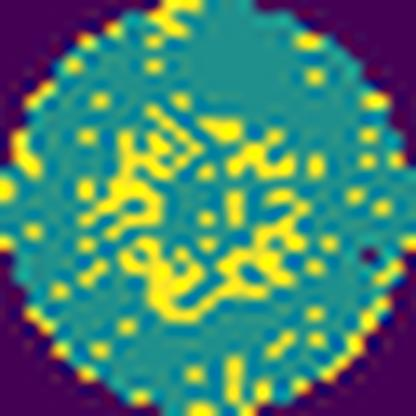Donut: (78, 89, 325, 325)
